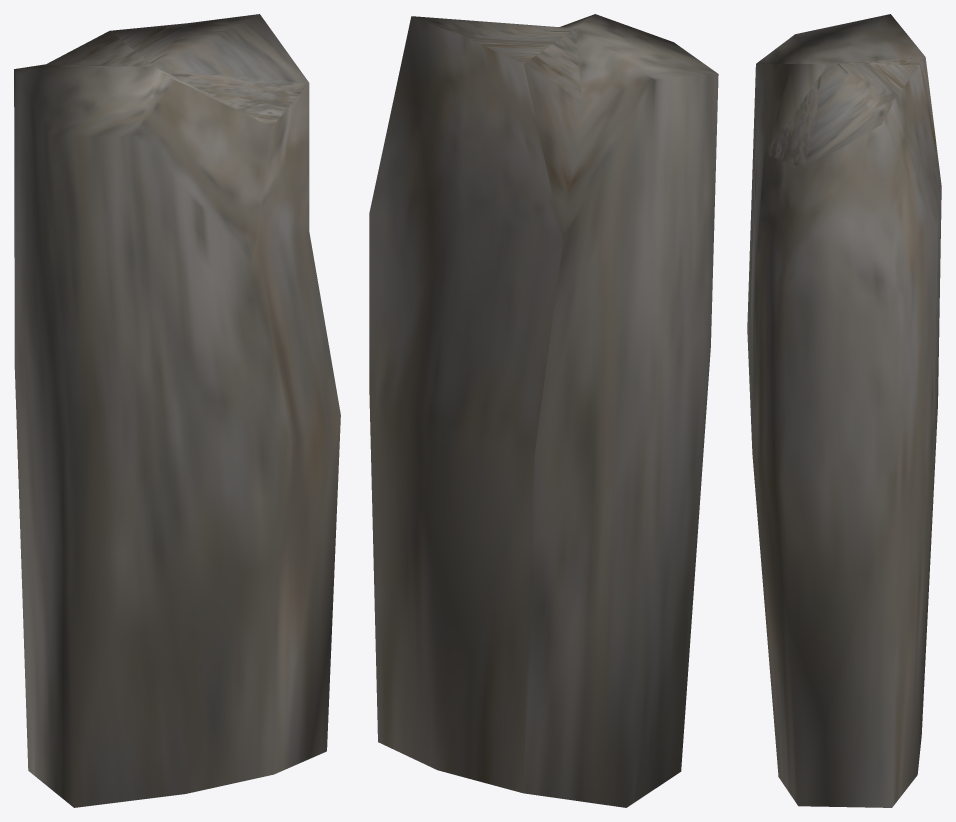
File: ruin2-s.glb
The picture shows the model from 3 angles, left to right: view 1: azimuth 30°, elevation 25°; view 2: azimuth 150°, elevation 25°; view 3: azimuth 270°, elevation 25°; orthographic projection. The views are drawn at different scales.
Visible parts, largest first — view 1: ruin2; view 2: ruin2; view 3: ruin2.
Boxes of the visible parts, <box> form: ruin2: <box>14,14,340,807</box>; ruin2: <box>369,14,718,807</box>; ruin2: <box>747,14,941,807</box>.
Bounding box in the file's own units: 2.16 × 5.1 × 1.34.
1 material, 1 textured.
